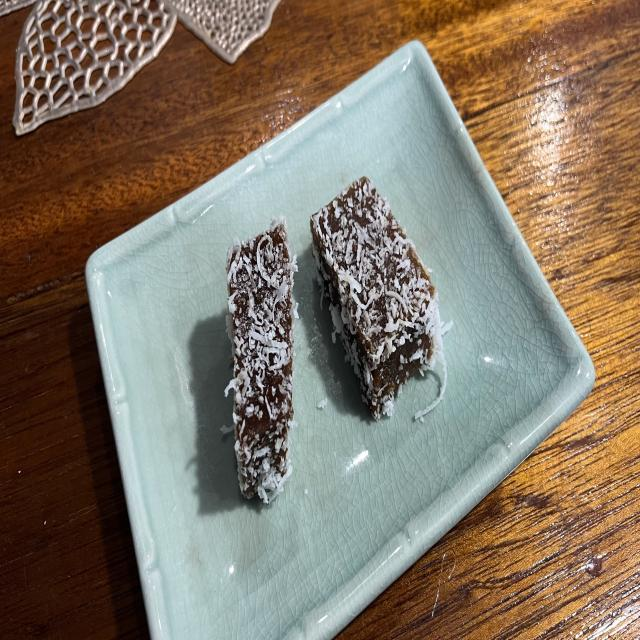kaswi: (310, 178, 446, 418), (225, 216, 296, 504)
